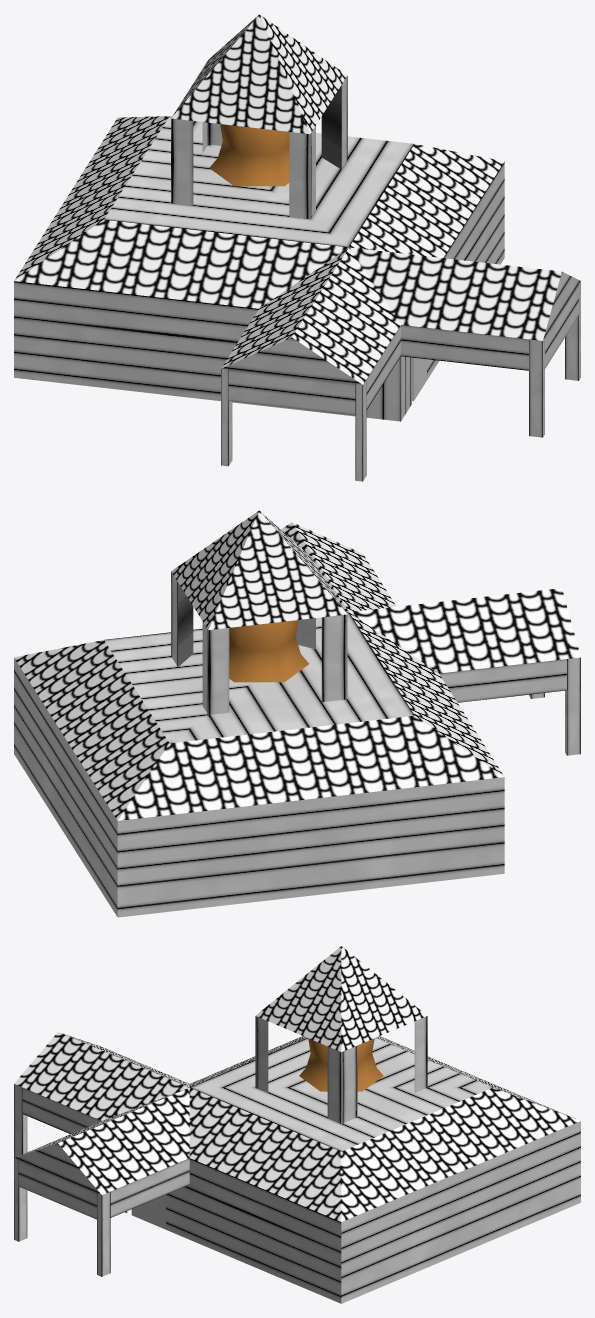
The model's file is gongon_center.fbx.
3 renders of one model, top to bottom at view 1: azimuth 30°, elevation 25°; view 2: azimuth 150°, elevation 25°; view 3: azimuth 270°, elevation 25°, orthographic. The views are drawn at different scales.
Parts seen in each view (by area): view 1: CenterTop, CenterBody, CenterTop.001; view 2: CenterTop, CenterBody, CenterTop.001; view 3: CenterTop, CenterBody, CenterTop.001, Door_R.
Part boxes in pixels (x1,y1,x2,y2): CenterTop: [14, 14, 580, 384]; CenterBody: [14, 162, 580, 481]; CenterTop.001: [209, 124, 289, 186]; CenterTop: [14, 510, 580, 820]; CenterBody: [14, 657, 580, 917]; CenterTop.001: [229, 620, 308, 682]; CenterTop: [14, 946, 580, 1221]; CenterBody: [14, 1084, 580, 1303]; CenterTop.001: [299, 1038, 383, 1091]; Door_R: [131, 1195, 165, 1229].
Size of the model in its own units: 2655 by 1570 by 3142.
